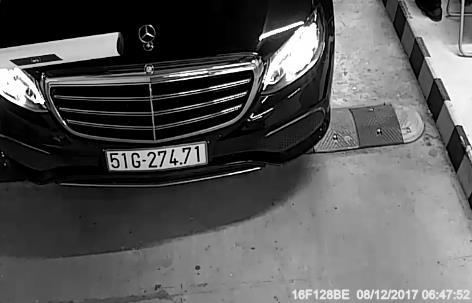License-plate: (94, 130, 225, 186)
